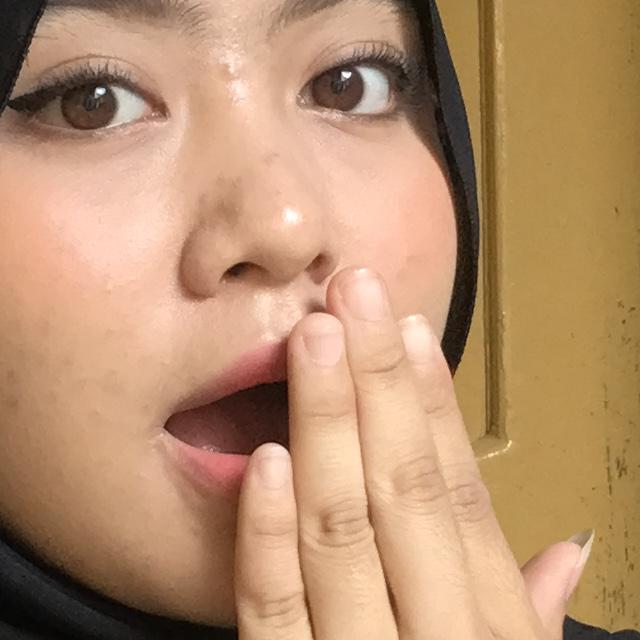ngantuk: (185, 236, 630, 640)
